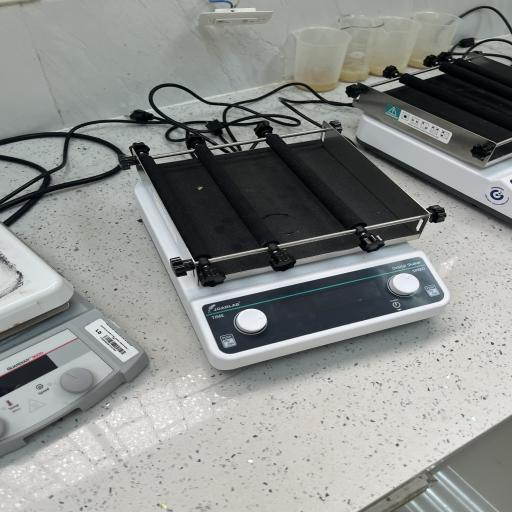Agitador_Orbital_DLAB: (104, 117, 468, 383)
